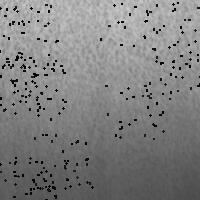pitted_surface: (3, 1, 198, 116), (4, 61, 64, 118), (32, 134, 91, 190), (0, 4, 56, 60), (105, 85, 162, 138), (149, 40, 200, 98), (95, 0, 153, 45), (0, 157, 55, 200), (0, 52, 39, 111), (22, 174, 80, 200), (152, 0, 200, 31)
